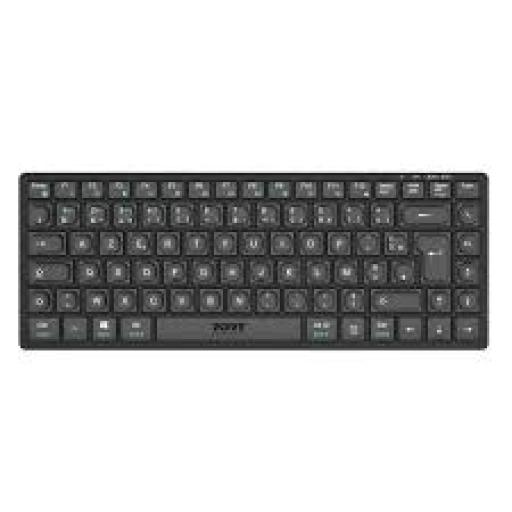KEYBOARD-2: (20, 173, 487, 348)
